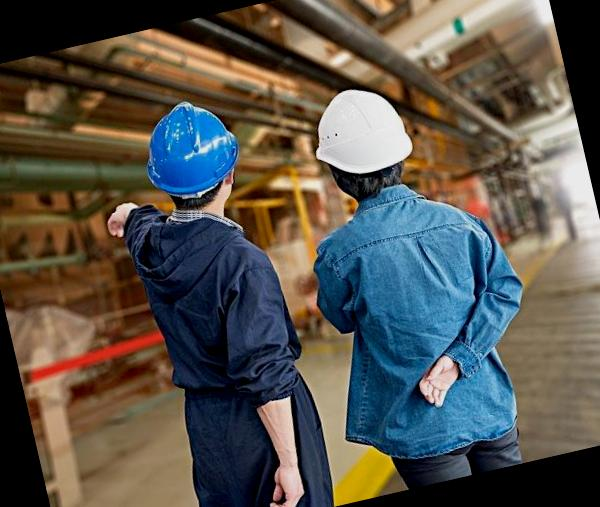helmet: (304, 72, 421, 180), (133, 96, 251, 202)
person: (273, 48, 566, 498), (81, 86, 346, 507)
